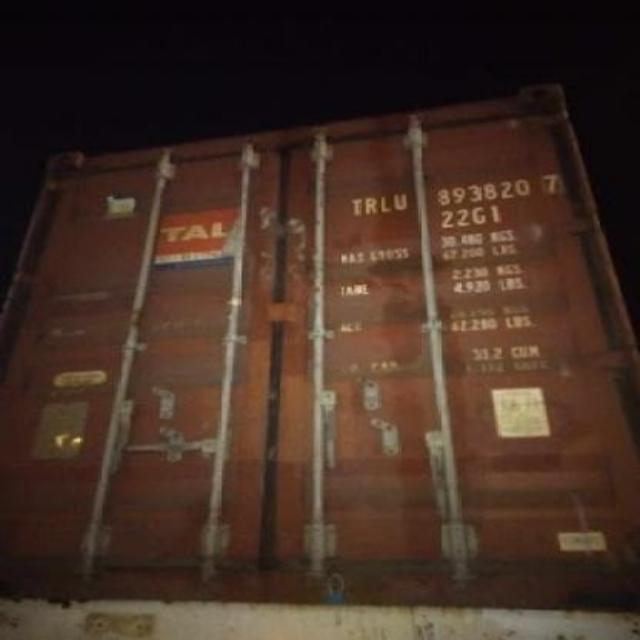0: (516, 178, 530, 194)
2: (502, 180, 516, 198)
3: (466, 184, 482, 200)
7: (542, 174, 560, 196)
8: (482, 180, 500, 198), (436, 188, 452, 204)
9: (452, 184, 466, 206)
L: (378, 196, 392, 212)
R: (364, 197, 378, 215)
T: (351, 196, 364, 218)
U: (392, 192, 410, 210)
